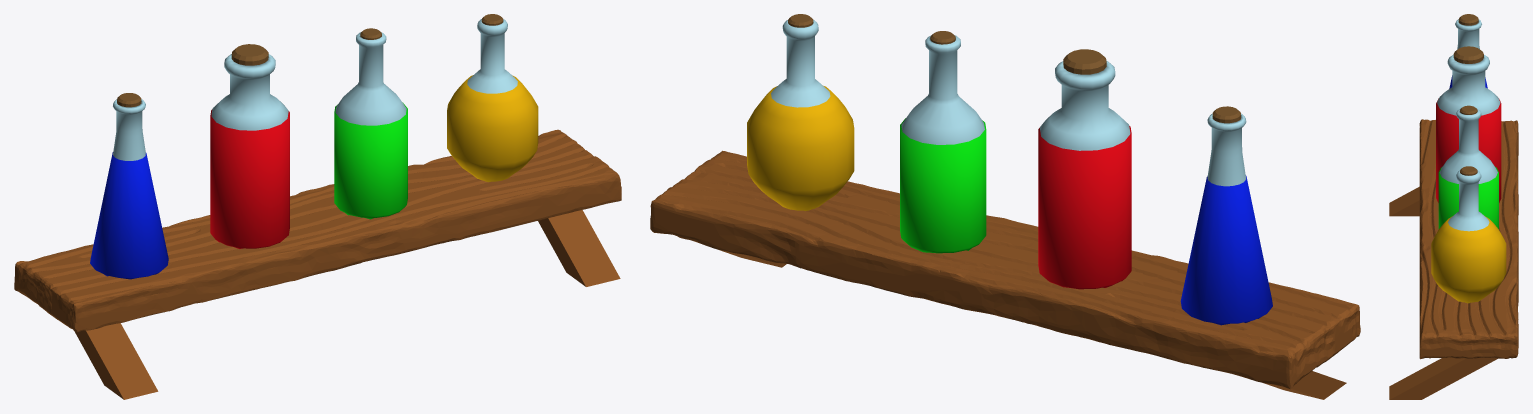
Rendered from PotionShelf.glb.
3 views of the same model, side by side, from view 1: azimuth 30°, elevation 25°; view 2: azimuth 150°, elevation 25°; view 3: azimuth 270°, elevation 25° (orthographic). The views are drawn at different scales.
Visible parts, largest first — view 1: Plane.002, Cylinder.005, Cylinder.008, Cylinder.006, Cylinder.007, Cylinder, Cylinder.002, Plane.003, Plane.001, Cylinder.003, Cylinder.004, Cylinder.010; view 2: Plane.002, Cylinder.005, Cylinder.008, Cylinder.006, Cylinder.007, Cylinder, Cylinder.002, Cylinder.003, Cylinder.004, Plane.003, Cylinder.010; view 3: Plane.002, Cylinder.008, Cylinder.005, Plane.001, Cylinder, Cylinder.002, Cylinder.007, Cylinder.003, Plane.003, Cylinder.004, Cylinder.010, Cylinder.009 (+2 smaller).
Boxes of the visible parts, x1,y1,x2,y2 form: Plane.002: (14, 129, 621, 332); Cylinder.005: (210, 109, 289, 248); Cylinder.008: (447, 75, 538, 182); Cylinder.006: (90, 152, 168, 279); Cylinder.007: (334, 102, 407, 219); Cylinder: (211, 54, 288, 130); Cylinder.002: (335, 32, 406, 125); Plane.003: (75, 323, 158, 399); Plane.001: (538, 210, 620, 286); Cylinder.003: (467, 19, 517, 93); Cylinder.004: (113, 99, 145, 160); Cylinder.010: (231, 44, 268, 65); Plane.002: (650, 150, 1360, 389); Cylinder.005: (1038, 126, 1131, 289); Cylinder.008: (747, 86, 854, 210); Cylinder.006: (1180, 175, 1272, 325); Cylinder.007: (900, 118, 986, 253); Cylinder: (1040, 60, 1130, 150); Cylinder.002: (901, 35, 984, 144); Cylinder.003: (771, 20, 830, 107); Cylinder.004: (1207, 113, 1246, 186); Plane.003: (1262, 371, 1346, 399); Cylinder.010: (1063, 49, 1106, 74); Plane.002: (1419, 119, 1518, 359); Cylinder.008: (1431, 216, 1506, 303); Cylinder.005: (1436, 98, 1501, 202); Plane.001: (1389, 357, 1497, 399); Cylinder: (1437, 54, 1500, 115); Cylinder.002: (1439, 108, 1497, 183); Cylinder.007: (1438, 167, 1498, 229); Cylinder.003: (1448, 170, 1489, 231); Plane.003: (1389, 186, 1419, 216); Cylinder.004: (1455, 19, 1481, 49); Cylinder.010: (1453, 46, 1483, 63); Cylinder.009: (1458, 14, 1478, 25).
Bounding box in the file's own units: 1.8 × 0.8541 × 0.4526.
